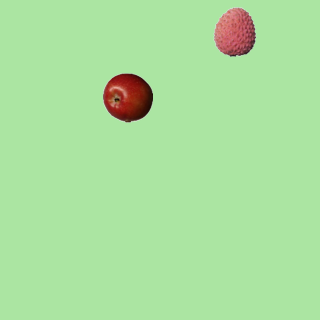Apple Braeburn: (102, 72, 152, 122)
Lychee: (209, 6, 259, 56)
